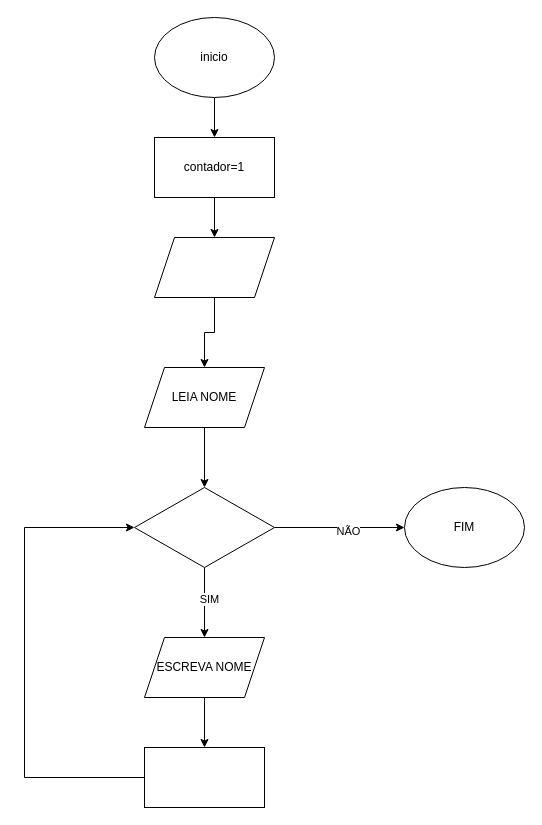
This 542x825 diagram has some shape labels left out. Each missing label, with the box of its shape:
CONTADOR++: (144, 746, 264, 808)
CONTADOR<= QUANTIDADE?: (134, 486, 274, 568)
LEIA QUANTIDADE: (154, 236, 274, 298)
